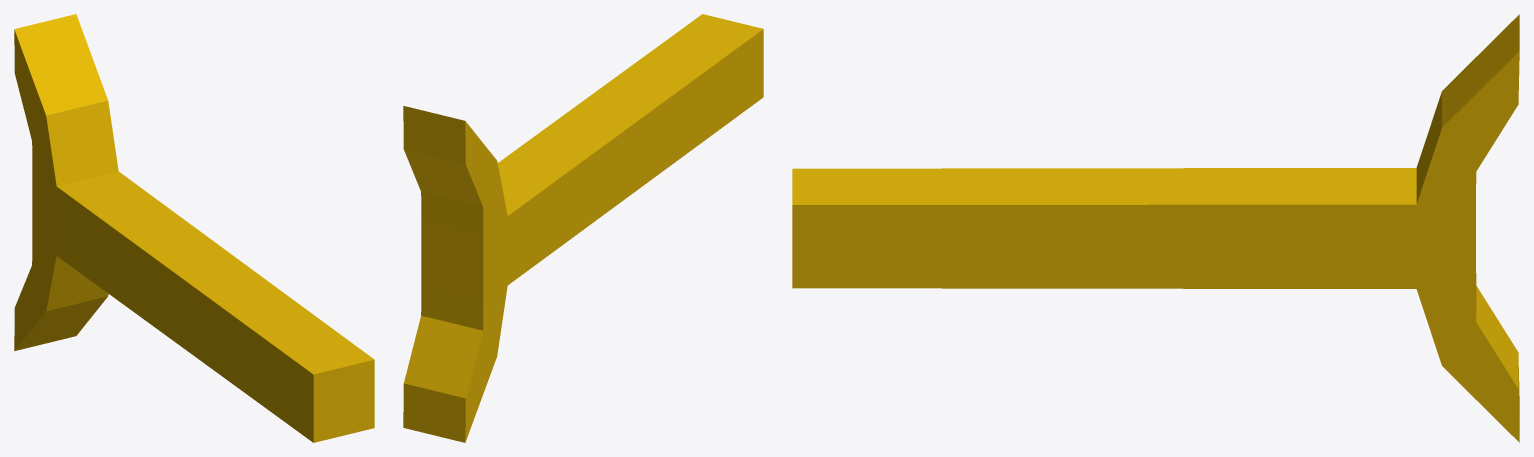
The model's file is Unit567KeyPart2.fbx.
3 renders of one model, left to right at view 1: azimuth 30°, elevation 25°; view 2: azimuth 150°, elevation 25°; view 3: azimuth 270°, elevation 25°, orthographic. The views are drawn at different scales.
Parts seen in each view (by area): view 1: Cube; view 2: Cube; view 3: Cube.
Boxes of the visible parts, x1=… form: Cube: x1=14, y1=14, x2=374, y2=442; Cube: x1=403, y1=14, x2=763, y2=442; Cube: x1=792, y1=14, x2=1519, y2=442.
Size of the model in its own units: 28.46 by 141 by 237.
